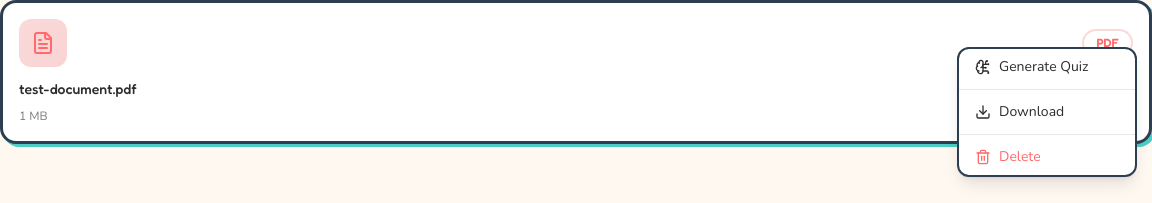
Test case: FileItem › calls onGenerateQuiz when Generate Quiz is clicked
The width and height of the screenshot is (1152, 203).
Earlier steps of the test are not shown.
Click the button "Generate Quiz".
click(1047, 67)  # box x1=959 y1=49 x2=1135 y2=85
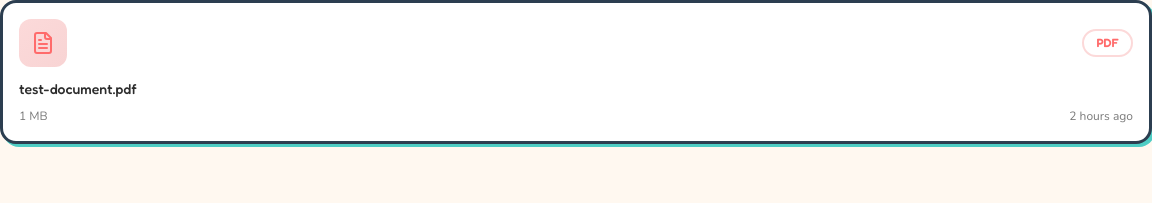
Check: the button "Generate Quiz" is gone
